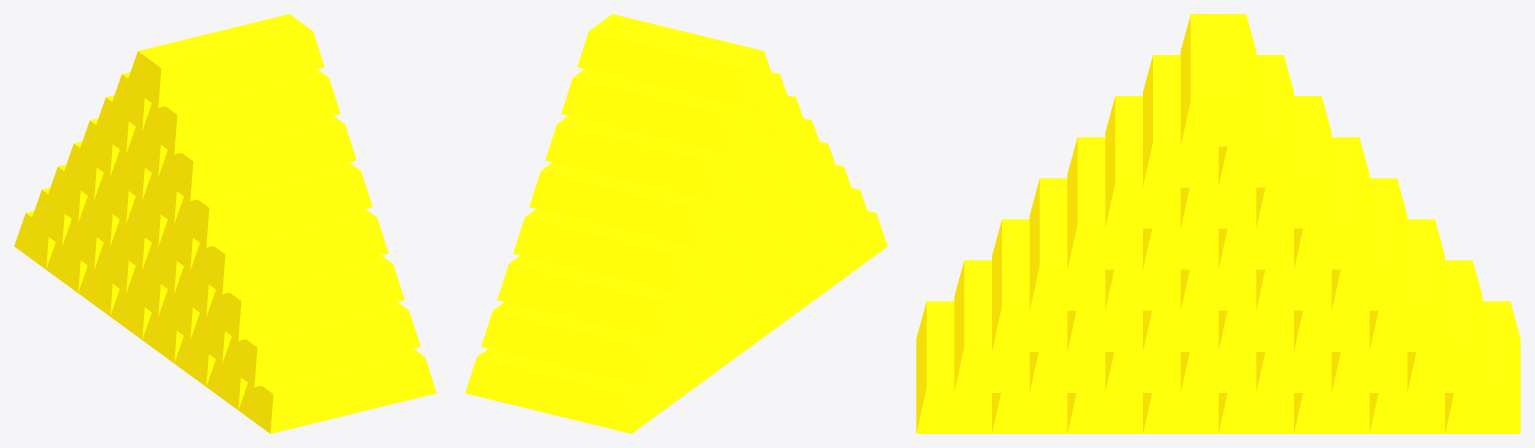
The model's file is ingot stack.fbx.
3 renders of one model, left to right at view 1: azimuth 30°, elevation 25°; view 2: azimuth 150°, elevation 25°; view 3: azimuth 270°, elevation 25°, orthographic. The views are drawn at different scales.
Parts seen in each view (by area): view 1: ingot stack; view 2: ingot stack; view 3: ingot stack.
Boxes of the visible parts, x1,y1,x2,y2 form: ingot stack: (14, 14, 436, 433); ingot stack: (465, 14, 887, 433); ingot stack: (916, 14, 1520, 433).
Size of the model in its own units: 30 by 48 by 80.
